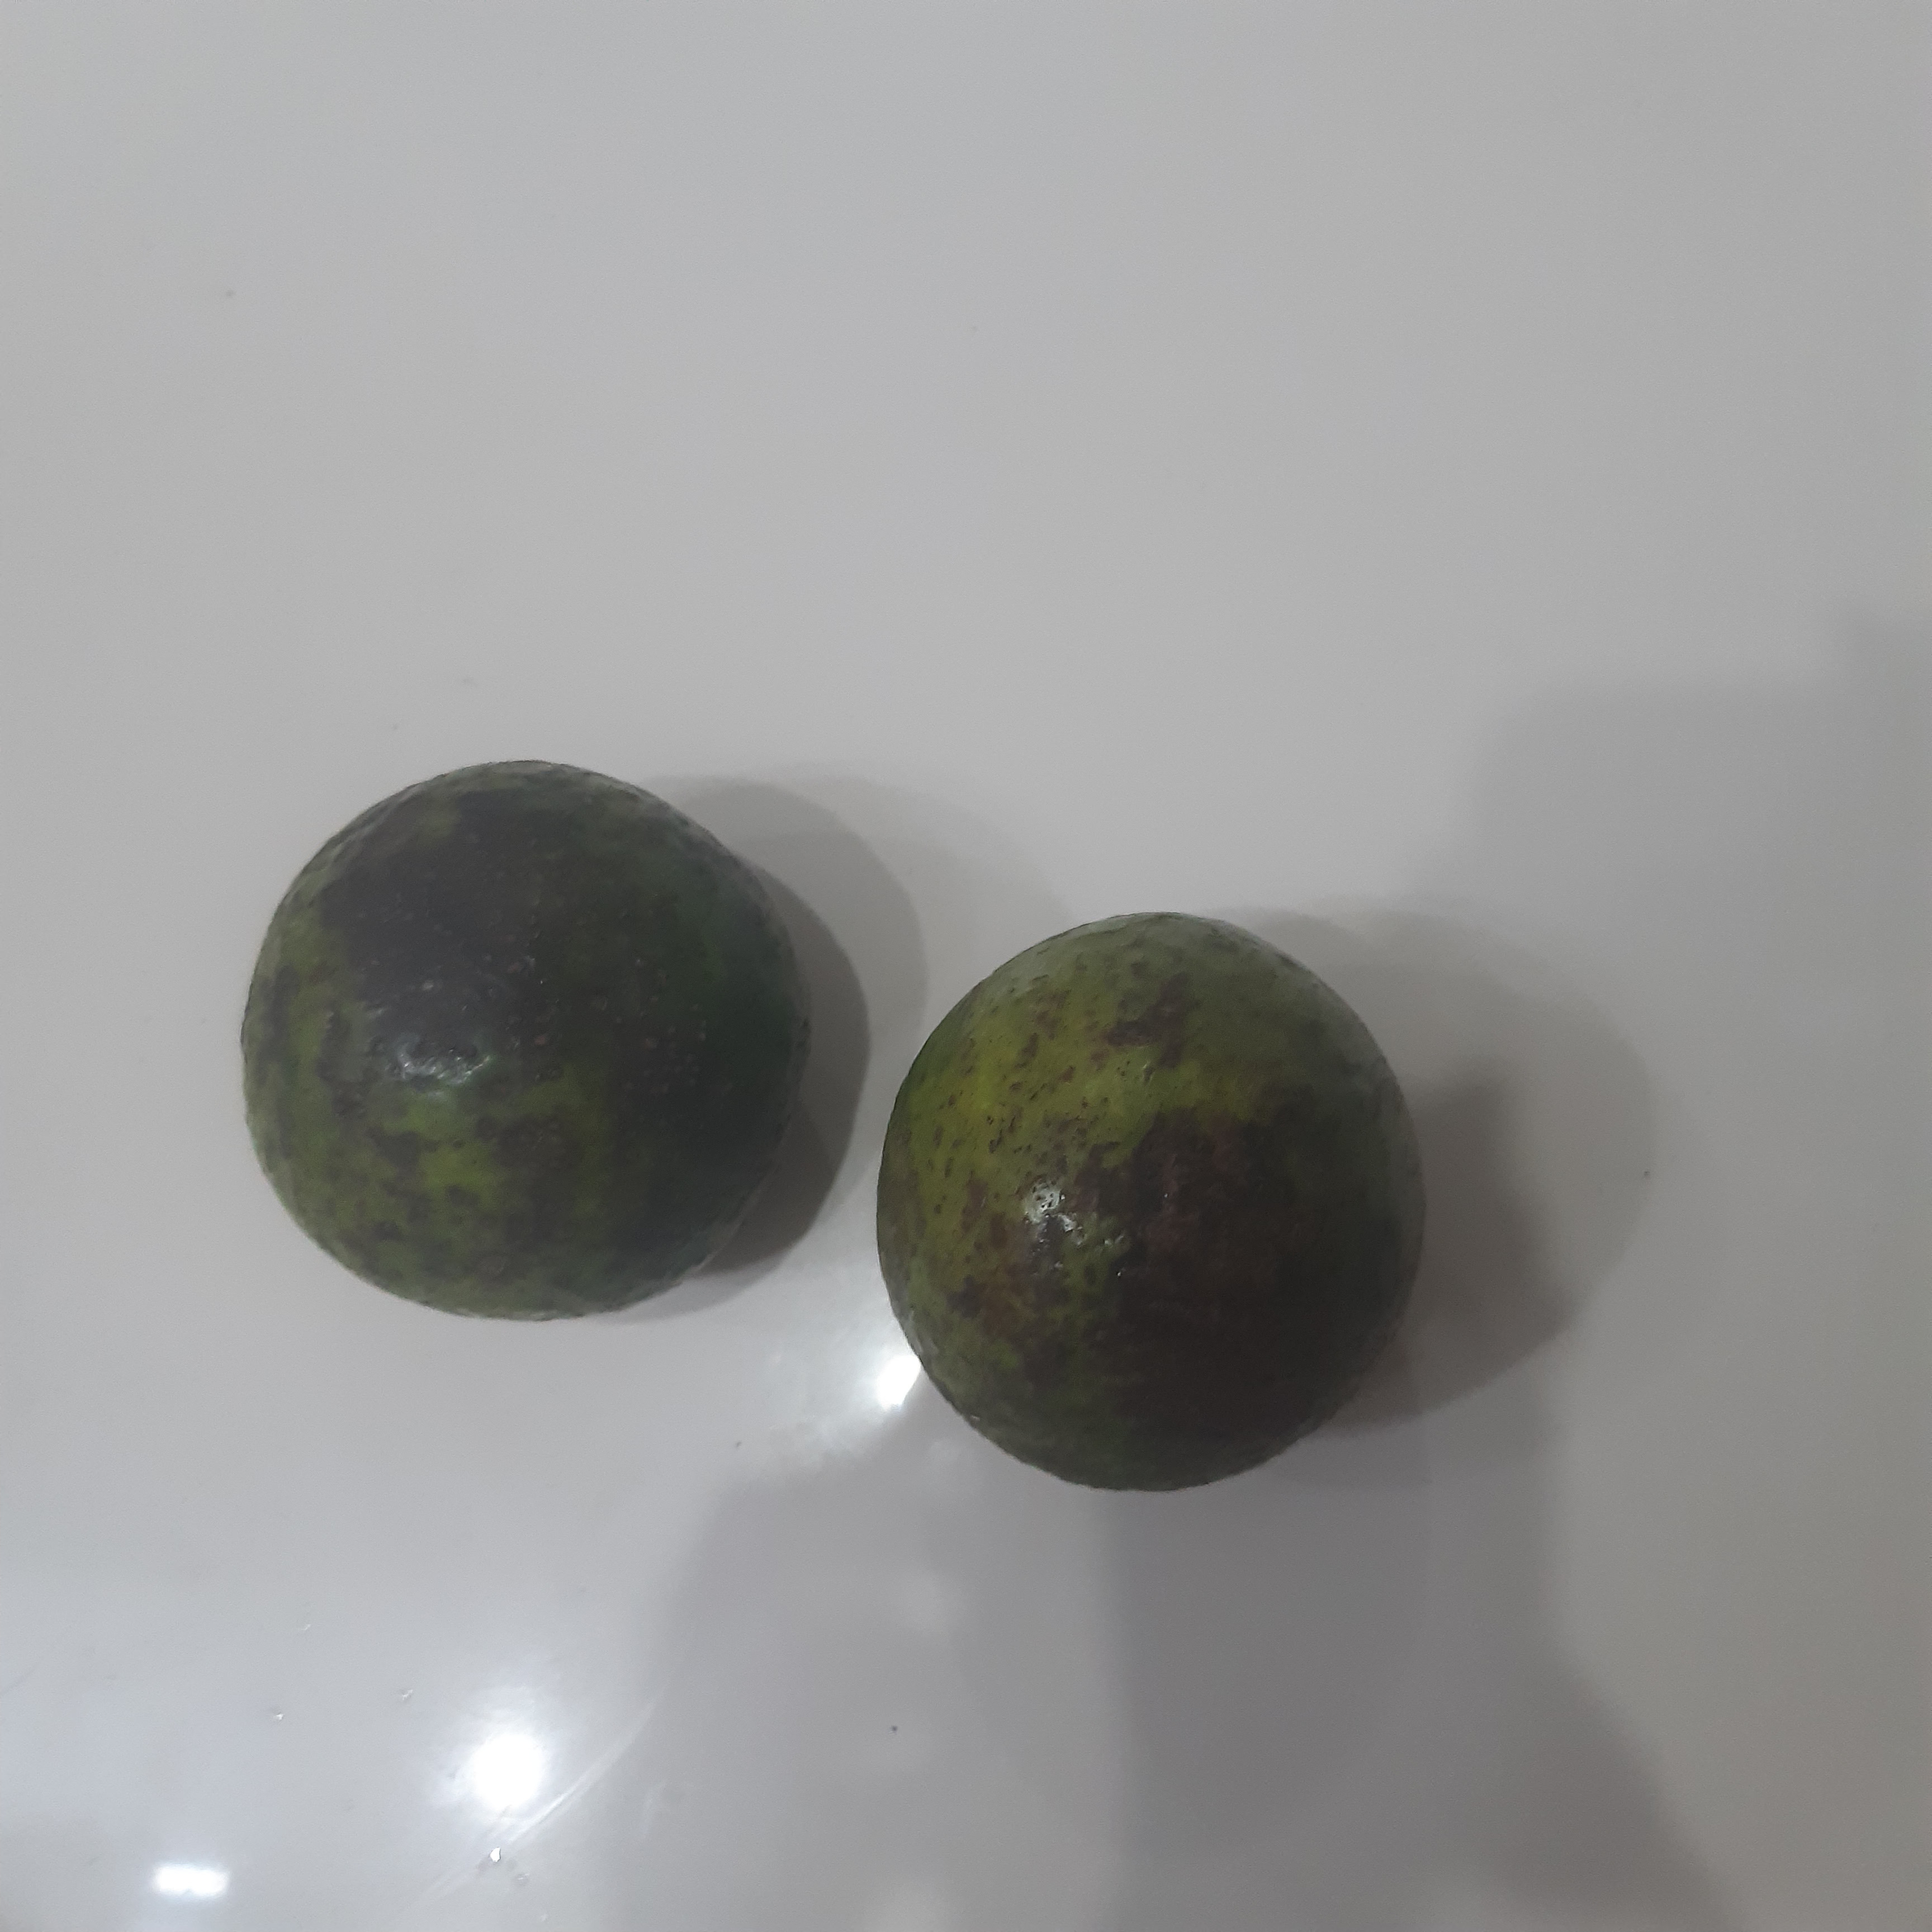Bo: (239, 759, 814, 1330), (874, 911, 1428, 1493)
